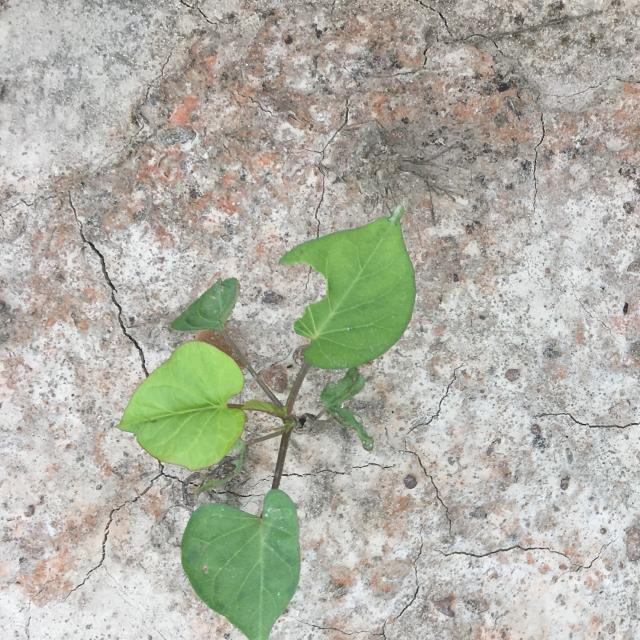MorningGlory: (115, 204, 415, 640)
